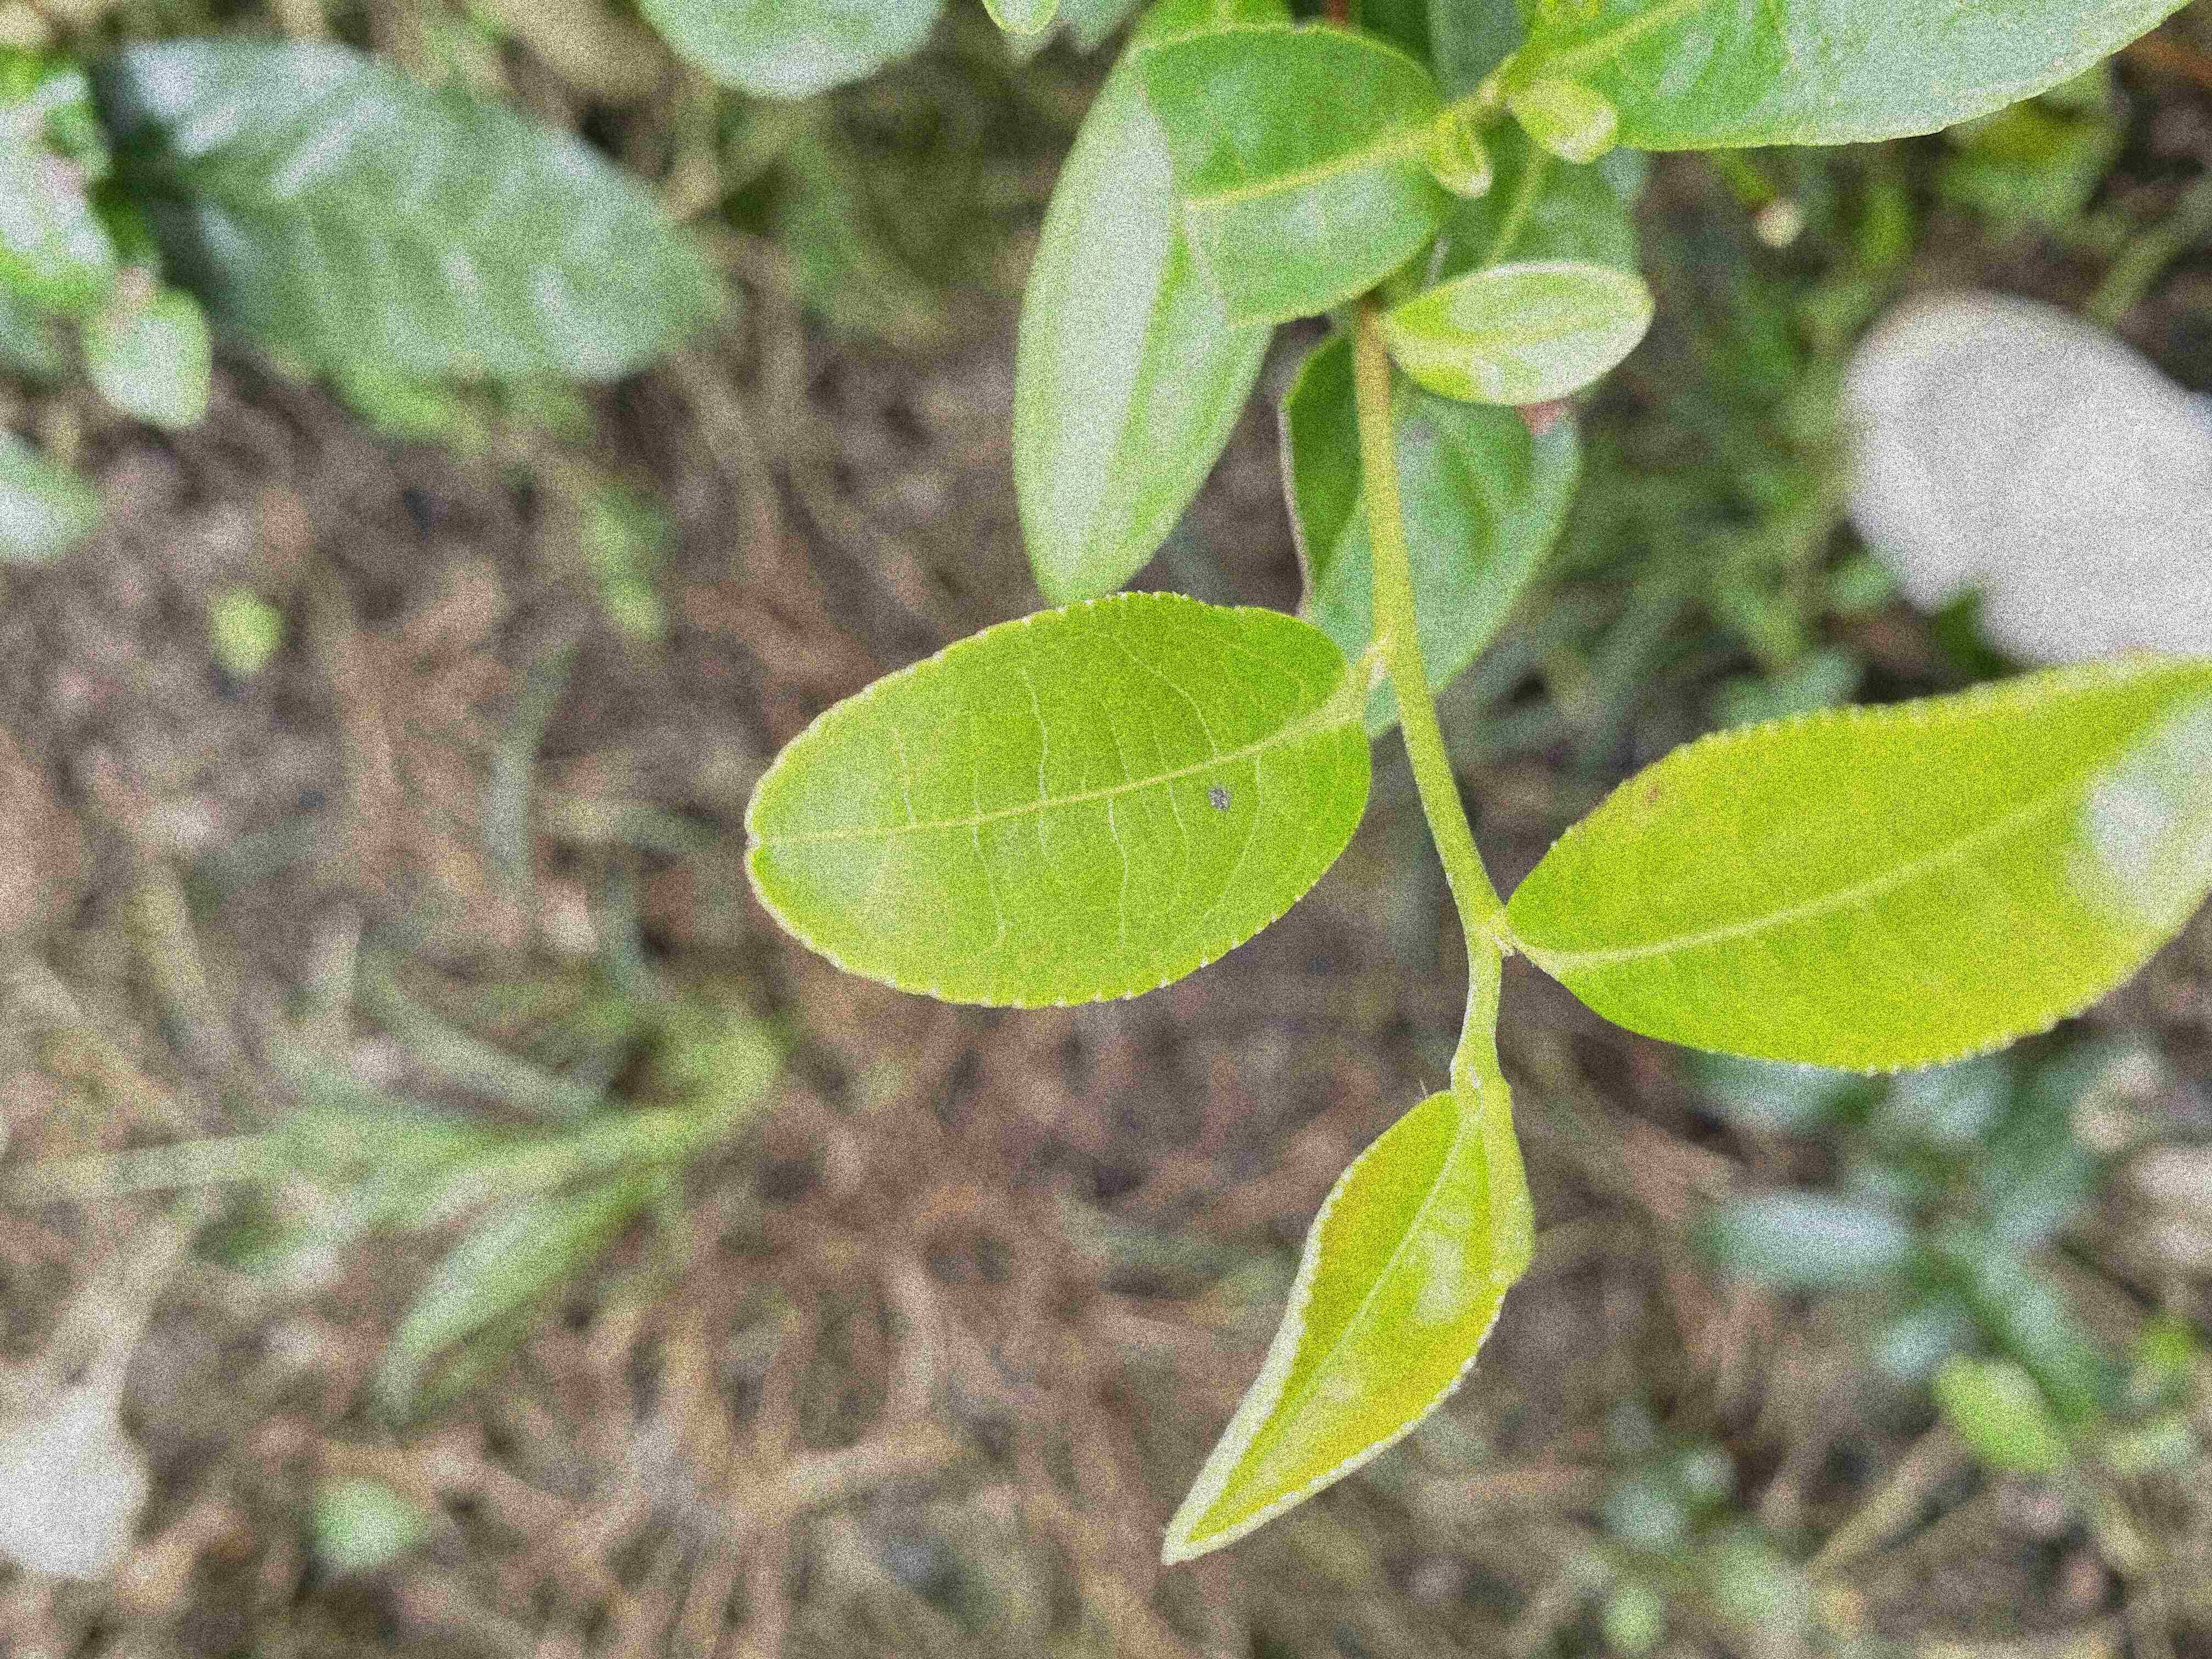chihuo_high: (1125, 23, 1453, 331)
healthy: (1162, 1098, 1514, 1567)
tanju_low: (1512, 655, 2212, 1080), (742, 587, 1374, 1012)
